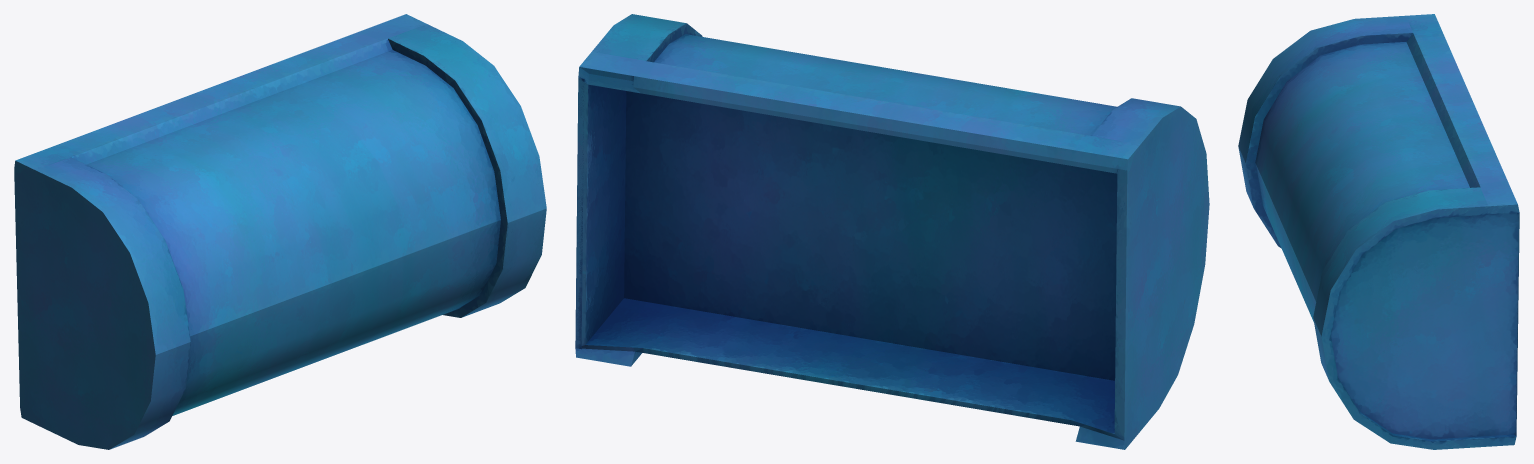
The model's file is 03_Lv1 Chest top.fbx.
3 renders of one model, left to right at view 1: azimuth 30°, elevation 25°; view 2: azimuth 150°, elevation 25°; view 3: azimuth 270°, elevation 25°, orthographic. The views are drawn at different scales.
Visible parts, largest first — view 1: Chest_lid; view 2: Chest_lid; view 3: Chest_lid.
Part boxes in pixels (x1=…): Chest_lid: x1=14, y1=14, x2=546, y2=449; Chest_lid: x1=575, y1=14, x2=1209, y2=449; Chest_lid: x1=1238, y1=14, x2=1519, y2=449.
Bounding box in the file's own units: 1593 × 859 × 889.
